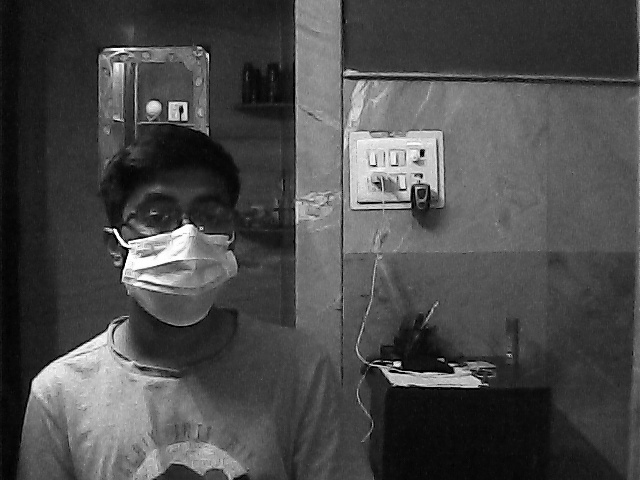mask: (115, 202, 239, 334)
